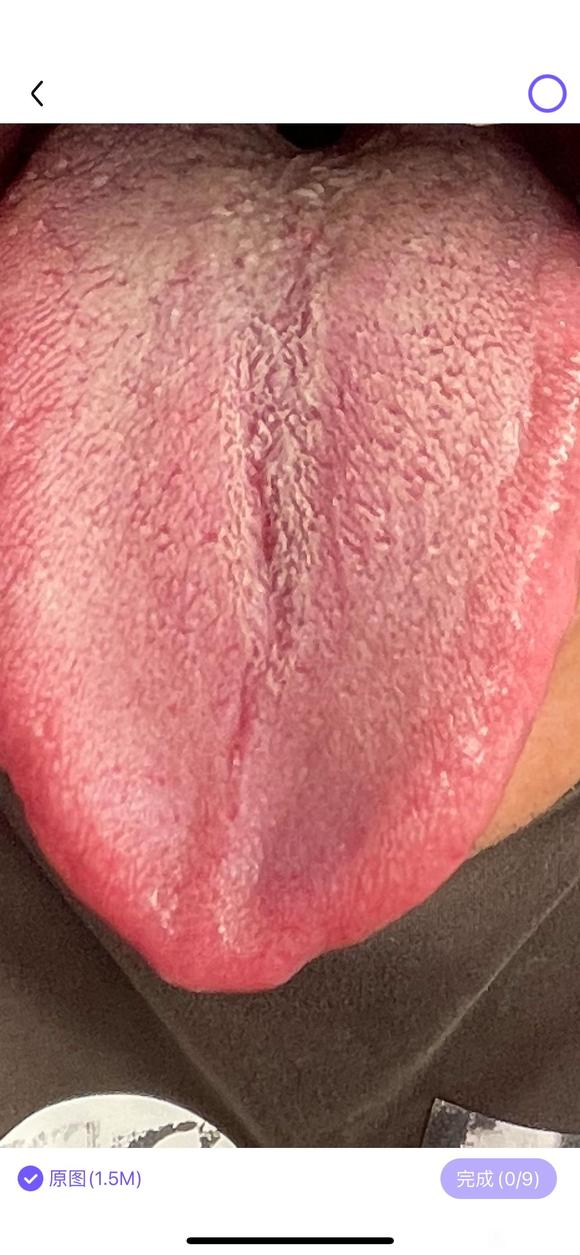hongshe: (1, 123, 578, 994)
huangtaishe: (1, 122, 578, 993)
liewenshe: (216, 298, 313, 828)
